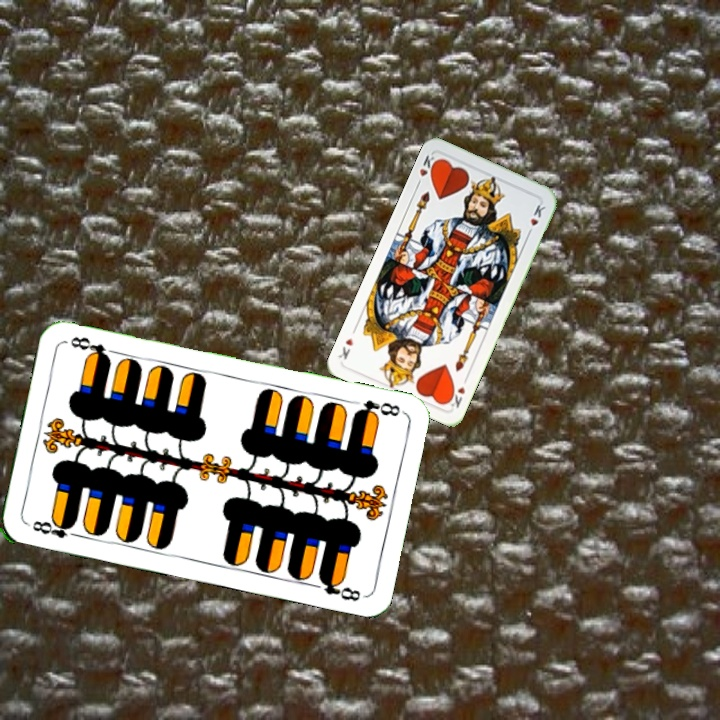E8: (28, 515, 82, 541), (350, 396, 405, 421)
HK: (412, 151, 441, 189), (443, 372, 470, 411)
